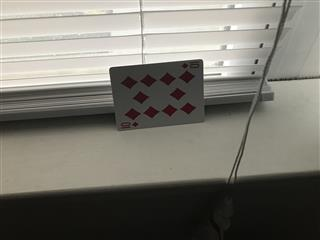TenOfDiamonds: (107, 57, 205, 131)
